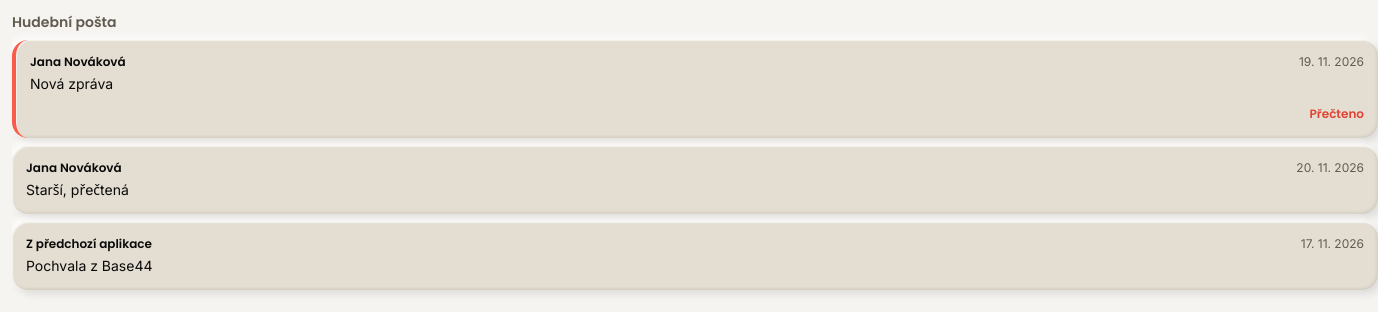
MailCard › puts unread first and marks one read
The image size is (1378, 312).
Check: the text "Z předchozí aplikace" is shown, box [26,236,152,252]
Check: the text "Nová zpráva" is shown, box [30,75,113,92]
Click the button "Přečteno". click: (1337, 114)
box: [1310,106,1364,122]
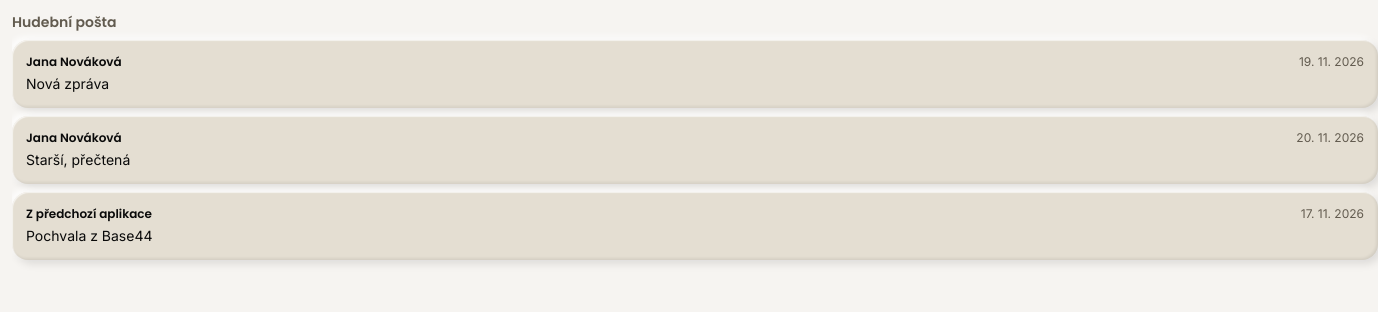
Check: the button "Přečteno" is gone
